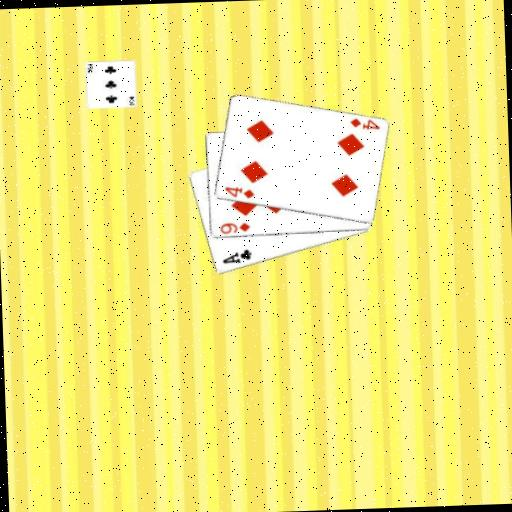4D: (346, 114, 381, 132), (221, 183, 255, 201)
9D: (217, 220, 251, 235)
AC: (218, 245, 253, 265)
